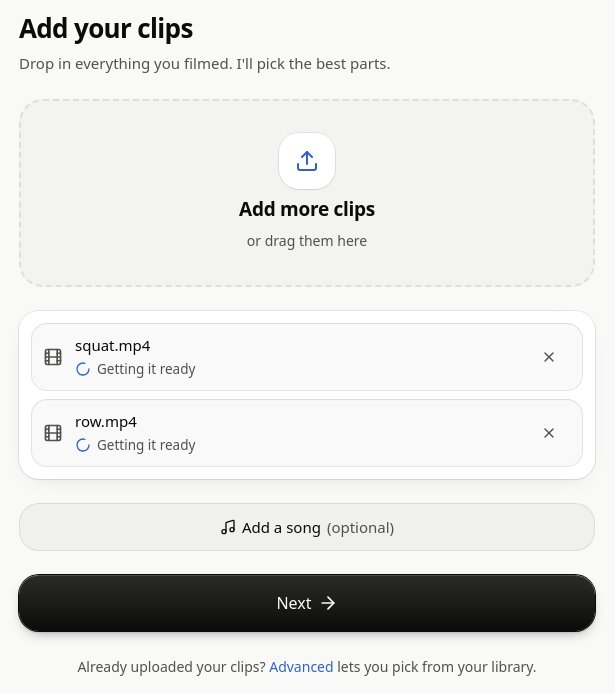
'Make my video' makes the project from the clips and the answers, starts the editor and opens the video
Earlier steps of the test are not shown.
Later steps or results of the test are not shown.
Step 1. Click the button "Next" → (307, 602), box [19,574,595,630]
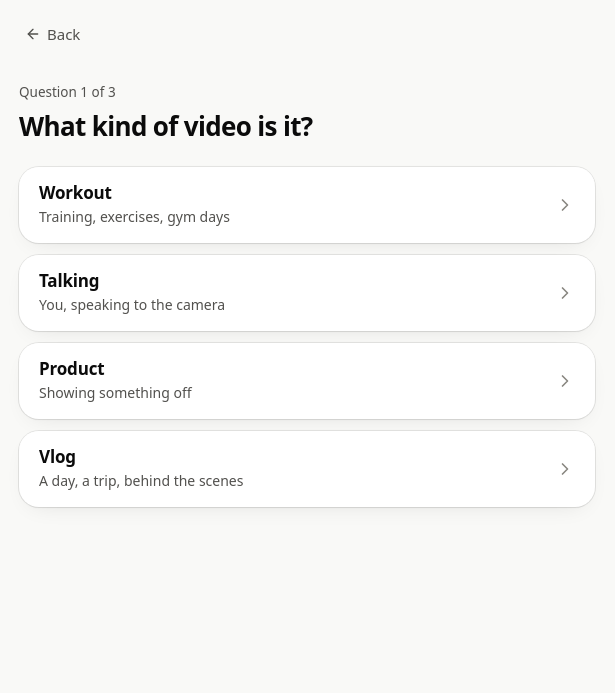
Step 2. Click the button "Workout Training, exercises, gym days" → (75, 192), box [19,166,595,242]
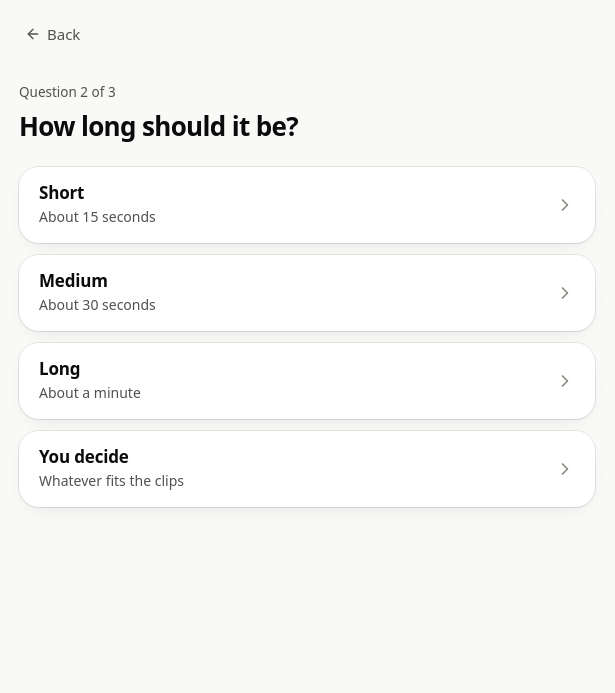
Step 3. Click the button "Medium About 30 seconds" → (73, 280), box [19,254,595,330]
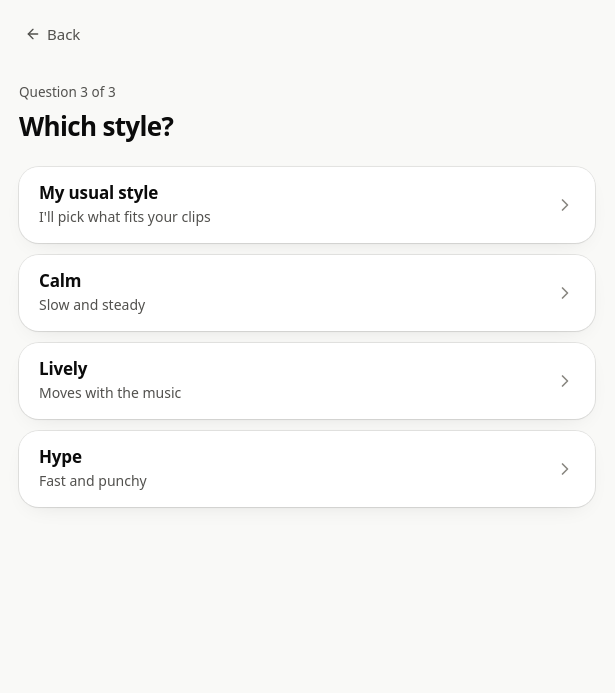
Step 4. Click the button "Hype Fast and punchy" → (60, 456), box [19,430,595,506]
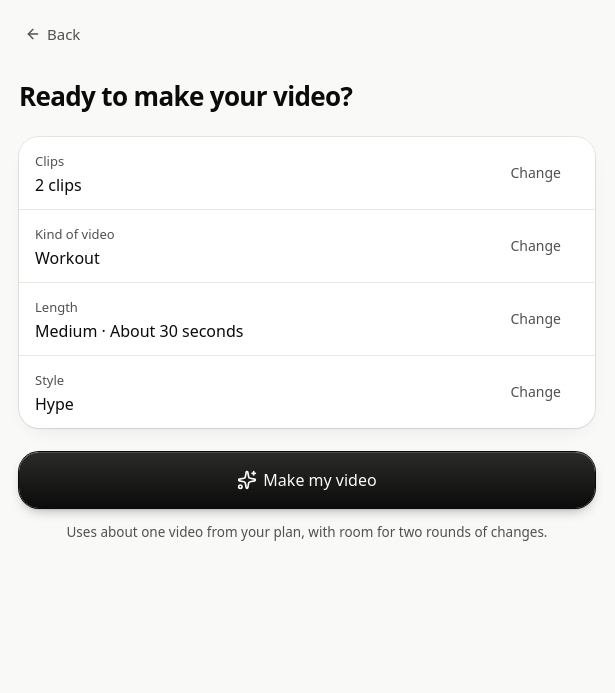
Result: the heading "Ready to make your video?" is shown at [19,78,352,114]
Result: the text "Workout" is shown at [35,246,100,268]
Result: the text "Medium · About 30 seconds" is shown at [35,320,243,342]
